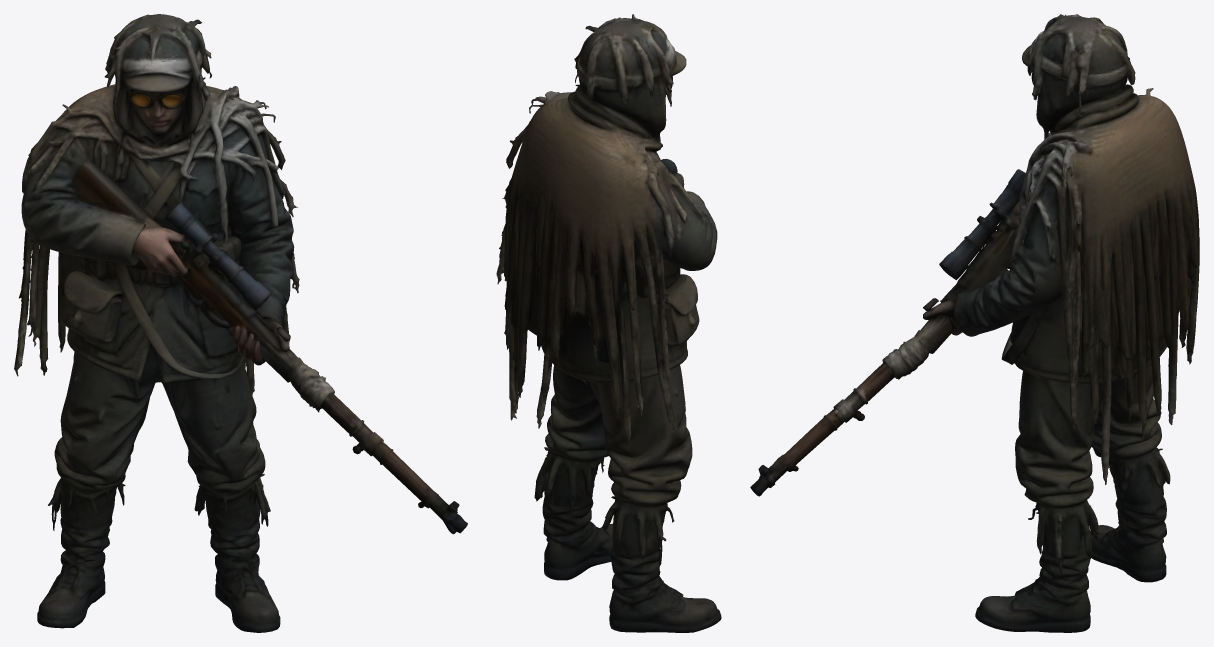
Rendered from char_sniper.glb.
3 renders of one model, left to right at view 1: azimuth 30°, elevation 25°; view 2: azimuth 150°, elevation 25°; view 3: azimuth 270°, elevation 25°, orthographic. The views are drawn at different scales.
Visible parts, largest first — view 1: node_0; view 2: node_0; view 3: node_0.
Boxes of the visible parts, box(x1,y1,x2,y2) form: node_0: box(14, 14, 467, 632); node_0: box(496, 14, 721, 632); node_0: box(750, 14, 1199, 632).
Bounding box in the file's own units: 0.4527 × 1.02 × 0.7205.
1 material, 1 textured.
